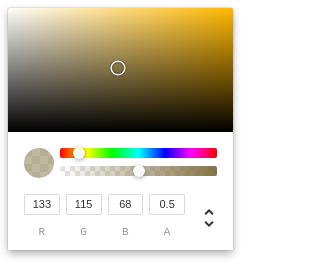
Test: toggle button works fine
The image size is (320, 276).
Expected: the field named "Transparency" is shown, [149,194,185,215]
Expected: the field named "Red" is shown, [24,194,60,215]
Click the button named "Change color format" at (209, 218), box [197,206,221,230]
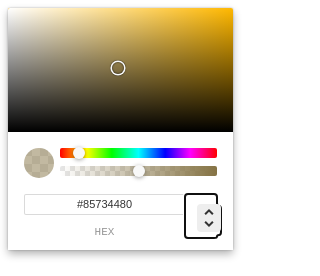
Expected: the field labelled "hex" is shown, [24,194,185,215]
Click the button named "Change color format" at (209, 218), box [197,204,221,232]
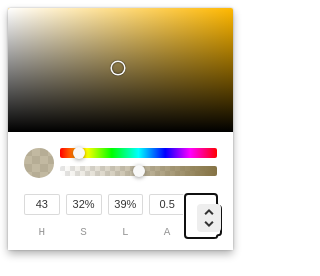
Expected: the field named "Hue" is shown, [24,194,60,215]
Expected: the field named "Saturation" is shown, [66,194,102,215]
Expected: the field named "Lightness" is shown, [108,194,143,215]
Click the button named "Change color format" at (209, 218), box [197,204,221,232]
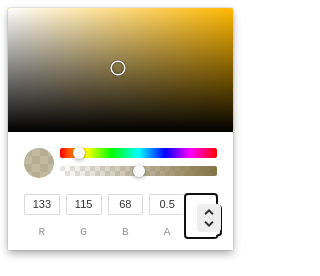
Expected: the field named "Blue" is shown, [108,194,143,215]
